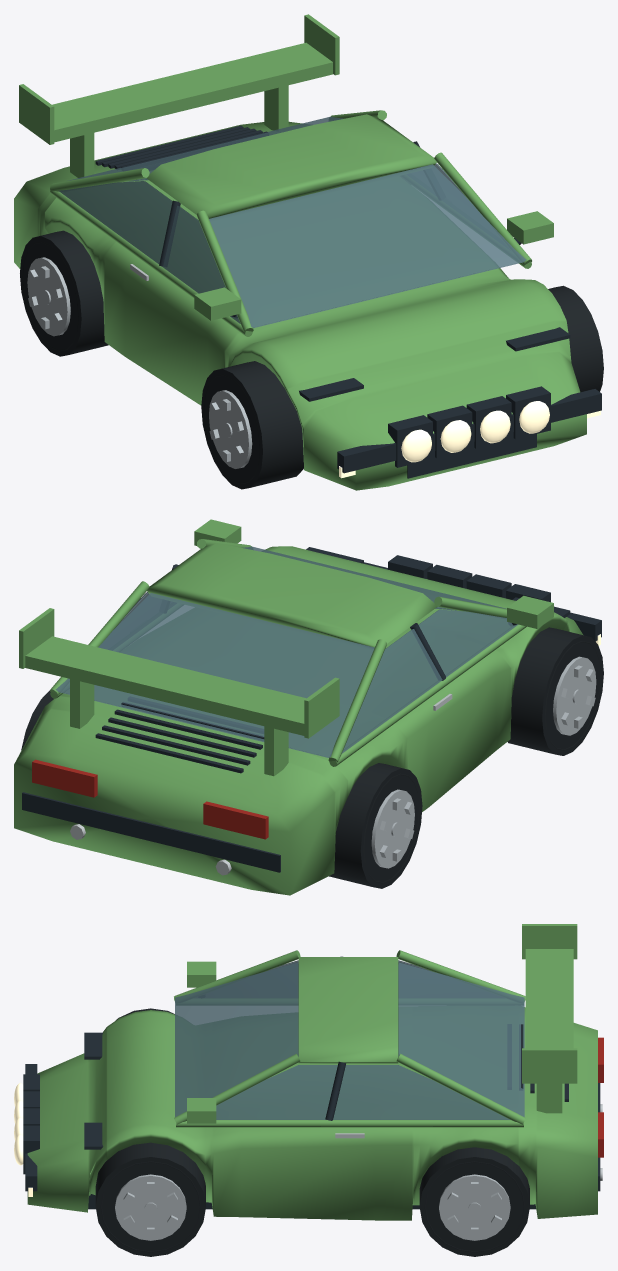
File: stratos.glb
3 renders of one model, top to bottom at view 1: azimuth 30°, elevation 25°; view 2: azimuth 150°, elevation 25°; view 3: azimuth 270°, elevation 25°, orthographic. The views are drawn at different scales.
Visible parts, largest first — view 1: exterior-paint, windows, black-trim, tire-front-left, tire-rear-left, headlights, tire-front-right, rim-rear-left, rim-front-left; view 2: exterior-paint, windows, black-trim, tire-front-left, tire-rear-left, taillights, rim-rear-left, rim-front-left, chrome; view 3: exterior-paint, windows, tire-front-right, tire-rear-right, black-trim, rim-rear-right, rim-front-right, headlights, taillights.
Boxes of the visible parts, x1,y1,x2,y2 form: exterior-paint: [14, 14, 586, 490]; windows: [58, 116, 526, 327]; black-trim: [95, 125, 601, 478]; tire-front-left: [201, 361, 303, 489]; tire-rear-left: [20, 230, 108, 356]; headlights: [339, 401, 600, 478]; tire-front-right: [548, 285, 603, 392]; rim-rear-left: [27, 257, 70, 336]; rim-front-left: [209, 390, 252, 468]; exterior-paint: [14, 519, 583, 895]; windows: [55, 546, 518, 757]; black-trim: [22, 547, 601, 872]; tire-front-left: [507, 627, 603, 755]; tire-rear-left: [329, 763, 422, 888]; taillights: [32, 759, 268, 839]; rim-rear-left: [371, 789, 414, 868]; rim-front-left: [553, 656, 596, 735]; chrome: [70, 694, 452, 875]; exterior-paint: [27, 924, 597, 1220]; windows: [175, 960, 524, 1119]; tire-front-right: [95, 1142, 205, 1256]; tire-rear-right: [419, 1147, 529, 1256]; black-trim: [23, 956, 600, 1209]; rim-rear-right: [439, 1174, 510, 1240]; rim-front-right: [115, 1174, 186, 1240]; headlights: [14, 1083, 32, 1196]; taillights: [598, 1037, 603, 1157].
Size of the model in its own units: 1.99 by 1.17 by 3.21.
